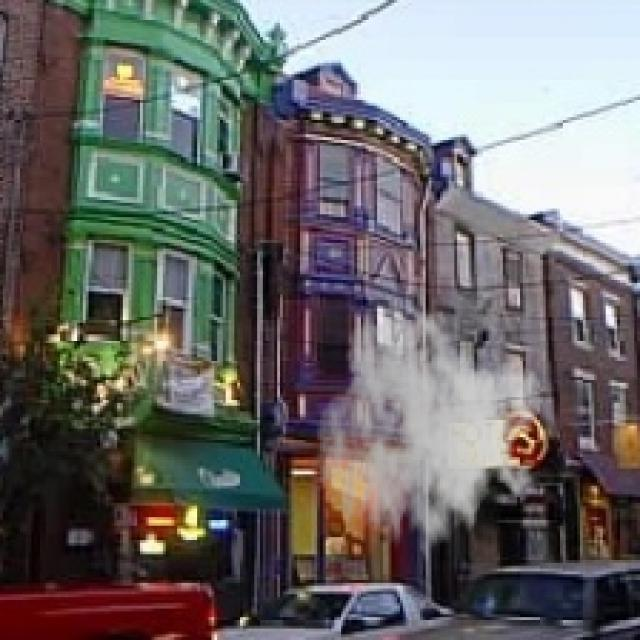Smoke: (314, 297, 543, 577)
